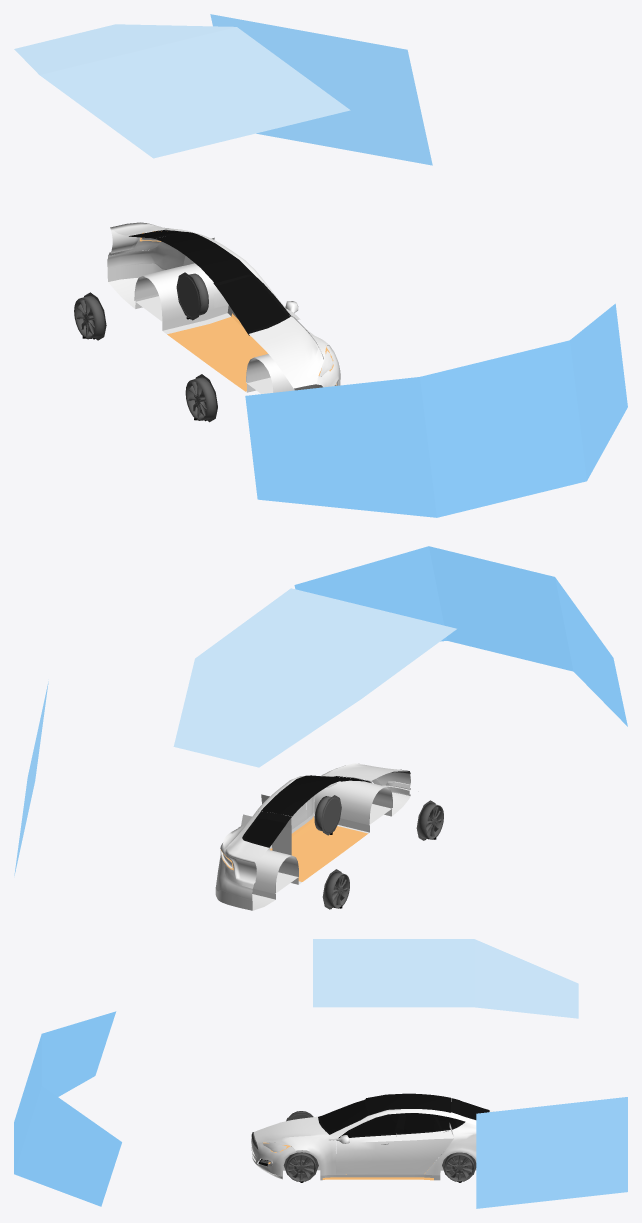
The picture shows the model from 3 angles, top to bottom: view 1: azimuth 30°, elevation 25°; view 2: azimuth 150°, elevation 25°; view 3: azimuth 270°, elevation 25°; orthographic projection. The views are drawn at different scales.
Visible parts, largest first — view 1: Plane.015, Plane.012, Plane.014, body_top.002, body_base.002, Wheel.014 (×3), core.002, glass.002, body_back.002, trunk.002; view 2: Plane.012, Plane.015, body_base.002, core.002, body_top.002, Wheel.014 (×3), trunk.002, body_back.002, Plane.014, glass.002, body_front.004, Plane.008; view 3: Plane.012, Plane.014, Plane.015, body_top.002, doors.002, glass.002, Wheel.014 (×2), rubber.002, body_back.002, body_base.002, body_front.004.
Boxes of the visible parts, bbox=[...] form: Plane.015: bbox=[245, 303, 627, 517]; Plane.012: bbox=[14, 24, 350, 158]; Plane.014: bbox=[210, 14, 432, 165]; body_top.002: bbox=[155, 232, 329, 388]; body_base.002: bbox=[107, 263, 267, 392]; Wheel.014 (×3): bbox=[74, 272, 217, 422]; core.002: bbox=[134, 263, 294, 393]; glass.002: bbox=[129, 231, 286, 335]; body_back.002: bbox=[107, 227, 228, 320]; trunk.002: bbox=[108, 222, 192, 255]; Plane.012: bbox=[173, 588, 456, 767]; Plane.015: bbox=[294, 546, 627, 726]; body_base.002: bbox=[215, 792, 410, 910]; core.002: bbox=[253, 776, 392, 893]; body_top.002: bbox=[255, 763, 407, 824]; Wheel.014 (×3): bbox=[314, 795, 443, 909]; trunk.002: bbox=[225, 811, 268, 888]; body_back.002: bbox=[215, 824, 298, 900]; Plane.014: bbox=[14, 681, 48, 875]; glass.002: bbox=[245, 777, 370, 845]; body_front.004: bbox=[337, 776, 410, 809]; Plane.008: bbox=[261, 794, 291, 855]; Plane.012: bbox=[313, 939, 578, 1018]; Plane.014: bbox=[476, 1097, 627, 1208]; Plane.015: bbox=[14, 1011, 121, 1206]; body_top.002: bbox=[254, 1093, 451, 1175]; doors.002: bbox=[336, 1130, 453, 1174]; glass.002: bbox=[320, 1100, 487, 1136]; Wheel.014 (×2): bbox=[283, 1152, 476, 1181]; rubber.002: bbox=[318, 1098, 489, 1138]; body_back.002: bbox=[424, 1122, 476, 1175]; body_base.002: bbox=[253, 1158, 440, 1180]; body_front.004: bbox=[251, 1142, 296, 1176].
Bounding box in the file's own units: 6.9 × 3.97 × 11.66.
